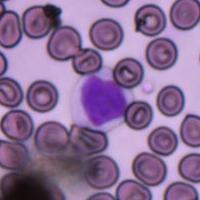M: (68, 68, 134, 132)
